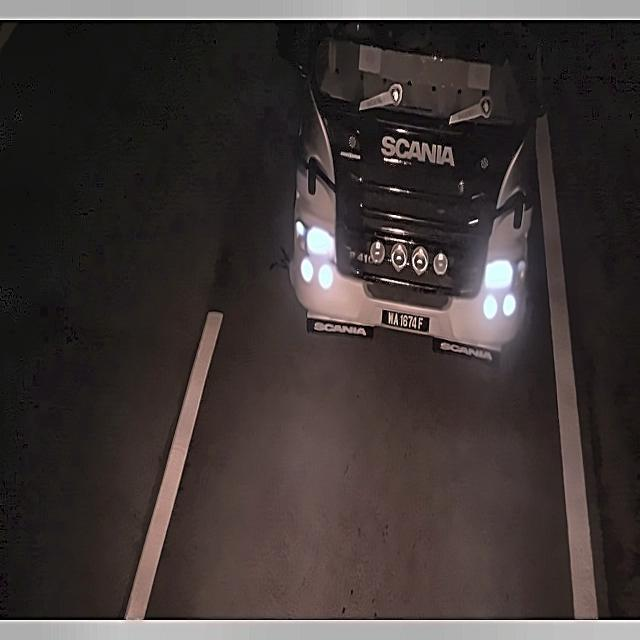car: (377, 299, 434, 340)
